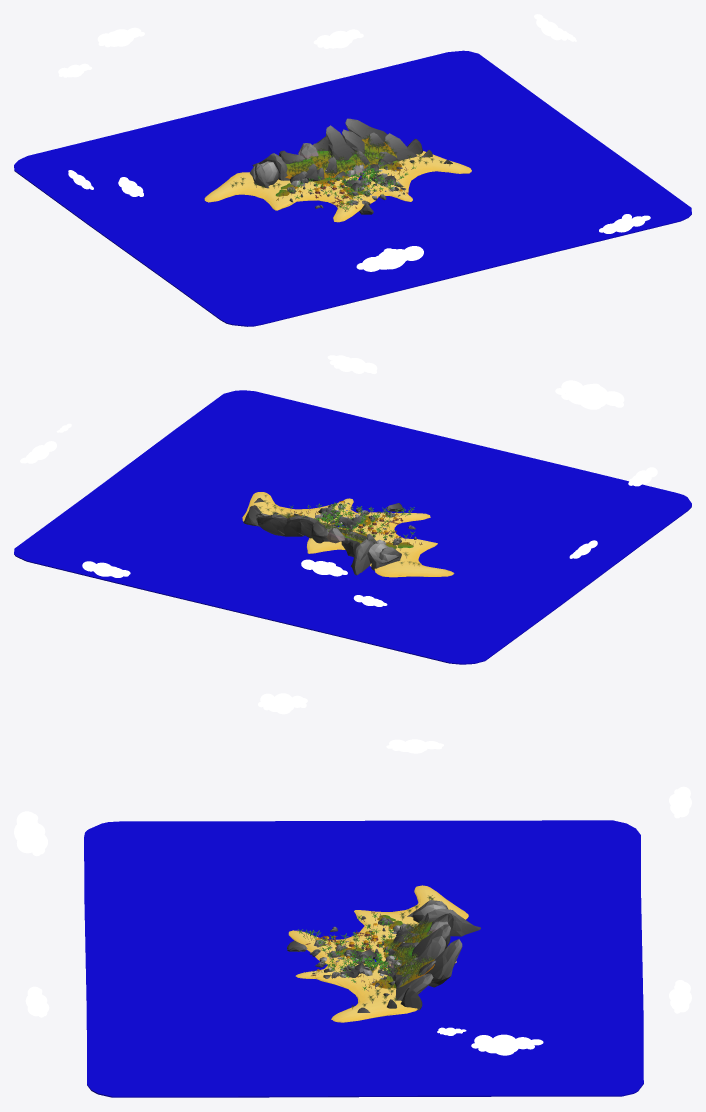
The model's file is tropicalisland.glb.
3 views of the same model, one above another, from view 1: azimuth 30°, elevation 25°; view 2: azimuth 150°, elevation 25°; view 3: azimuth 270°, elevation 25° (orthographic). The views are drawn at different scales.
Parts seen in each view (by area): view 1: Cube.001, BeachPart_U__6_, BeachPart_U__3_, BeachPart_U__2_, Rock__13_; view 2: Cube.001, BeachPart_U__6_, BeachPart_U__2_, BeachPart_U__3_, Rock__22_, Rock__44_; view 3: Cube.001, BeachPart_U__3_, BeachPart_U__6_, BeachPart_U__2_, Rock__22_, Rock__44_.
Part boxes in pixels (x1,y1,x2,y2): Cube.001: [14, 50, 691, 326]; BeachPart_U__6_: [204, 172, 306, 210]; BeachPart_U__3_: [364, 151, 471, 192]; BeachPart_U__2_: [297, 181, 378, 222]; Rock__13_: [326, 125, 356, 160]; Cube.001: [14, 390, 691, 664]; BeachPart_U__6_: [374, 537, 454, 577]; BeachPart_U__2_: [352, 512, 430, 540]; BeachPart_U__3_: [242, 492, 341, 526]; Rock__22_: [256, 515, 287, 535]; Rock__44_: [351, 539, 373, 575]; Cube.001: [84, 820, 643, 1097]; BeachPart_U__3_: [316, 964, 417, 1022]; BeachPart_U__6_: [354, 885, 468, 931]; BeachPart_U__2_: [288, 925, 396, 964]; Rock__22_: [425, 939, 462, 987]; Rock__44_: [418, 908, 480, 936].
Size of the model in its own units: 1195 by 228 by 1102.
93 materials, 3 textured.
